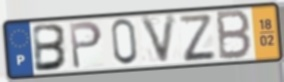0: (109, 17, 140, 69)
B: (215, 8, 253, 62), (31, 23, 70, 74)
P: (68, 20, 105, 71)
V: (138, 11, 180, 68)
Z: (176, 12, 218, 63)
